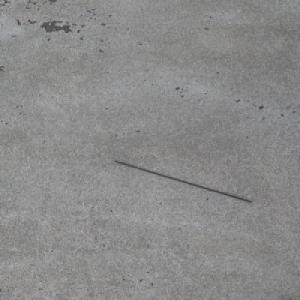LuggagePart: (113, 159, 253, 202)
